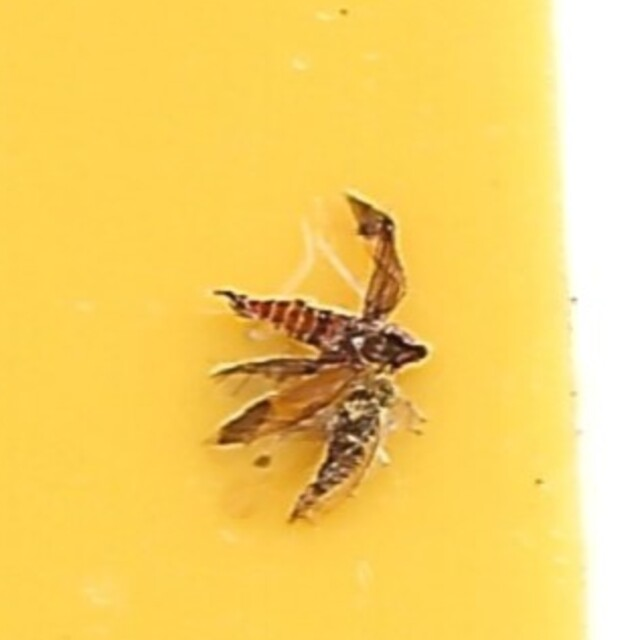Hemiptera: (203, 193, 437, 447)
